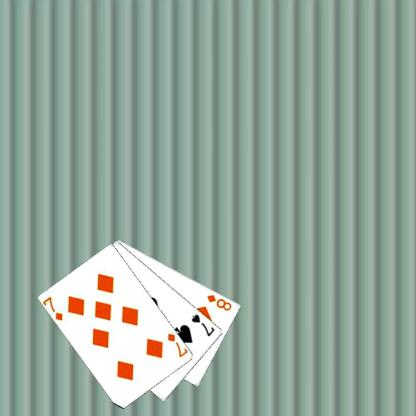7D: (165, 330, 188, 358), (42, 294, 64, 322)
7S: (189, 311, 216, 338)
8D: (204, 292, 233, 312)
